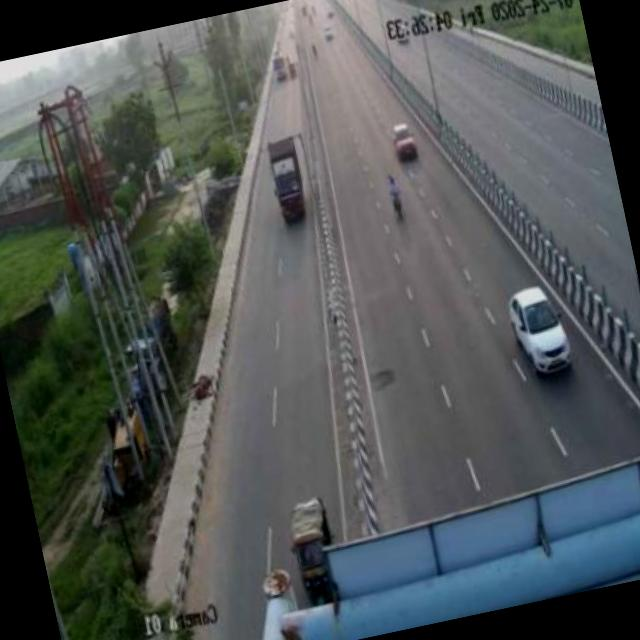car: (492, 270, 577, 385), (382, 115, 425, 167)
